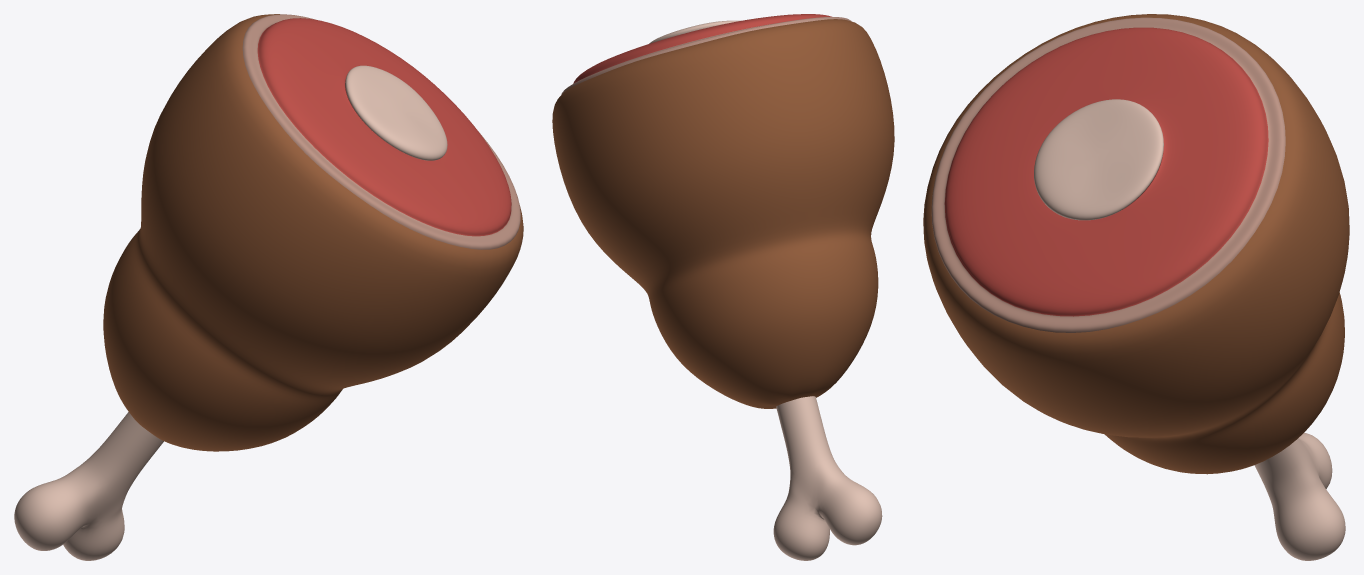
The model's file is Thigh.fbx.
3 renders of one model, left to right at view 1: azimuth 30°, elevation 25°; view 2: azimuth 150°, elevation 25°; view 3: azimuth 270°, elevation 25°, orthographic. The views are drawn at different scales.
Visible parts, largest first — view 1: meat.002_Circle.270, bone.002_Circle.261; view 2: meat.002_Circle.270, bone.002_Circle.261; view 3: meat.002_Circle.270, bone.002_Circle.261.
Part boxes in pixels (x1=…): meat.002_Circle.270: x1=103, y1=14, x2=523, y2=451; bone.002_Circle.261: x1=14, y1=412, x2=163, y2=560; meat.002_Circle.270: x1=552, y1=14, x2=894, y2=408; bone.002_Circle.261: x1=773, y1=396, x2=882, y2=560; meat.002_Circle.270: x1=923, y1=14, x2=1349, y2=474; bone.002_Circle.261: x1=1254, y1=432, x2=1345, y2=560.
Bounding box in the file's own units: 155 × 192 × 126.
